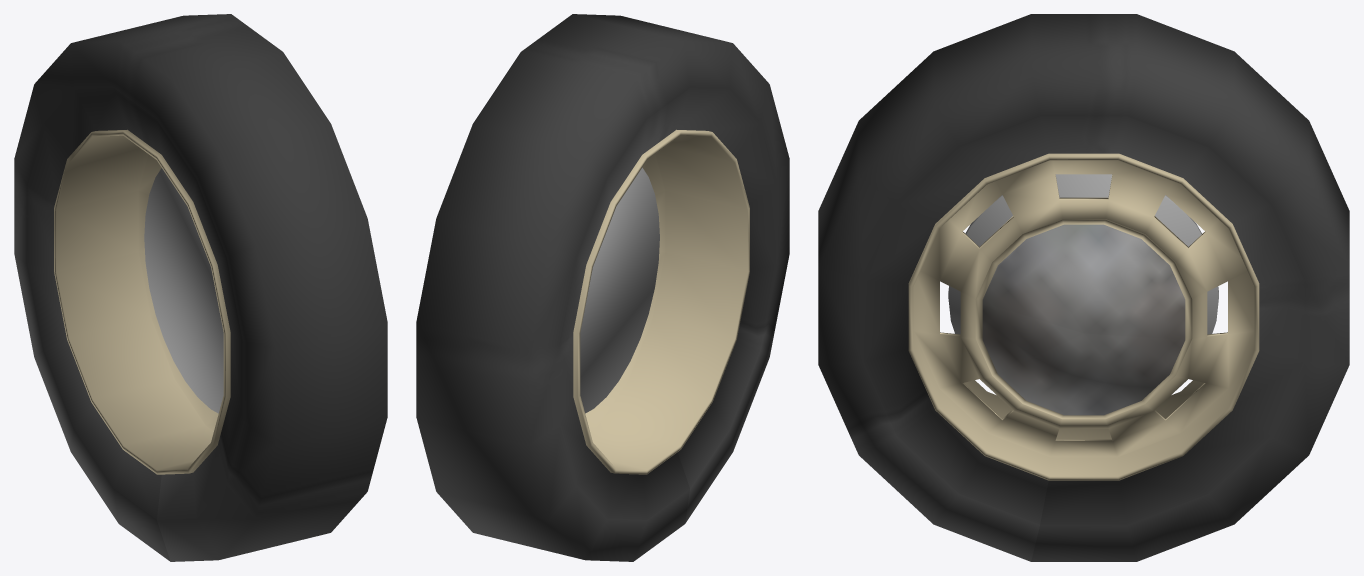
File: wheel.glb
The picture shows the model from 3 angles, left to right: view 1: azimuth 30°, elevation 25°; view 2: azimuth 150°, elevation 25°; view 3: azimuth 270°, elevation 25°; orthographic projection.
Parts seen in each view (by area): view 1: roue; view 2: roue; view 3: roue.
Part boxes in pixels (bbox=[...]): roue: bbox=[14, 14, 387, 561]; roue: bbox=[416, 14, 789, 561]; roue: bbox=[818, 14, 1349, 561].
Size of the model in its own units: 0.1872 by 0.5496 by 0.5379.
4 materials, 2 textured.
